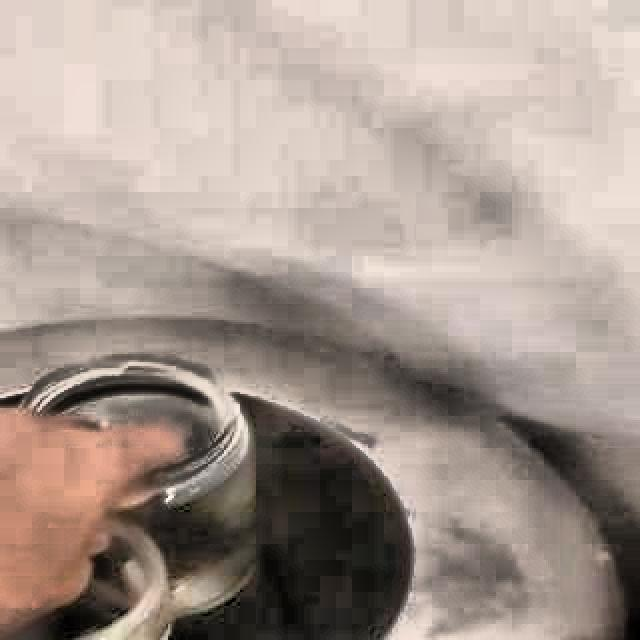glass: (4, 357, 256, 640)
